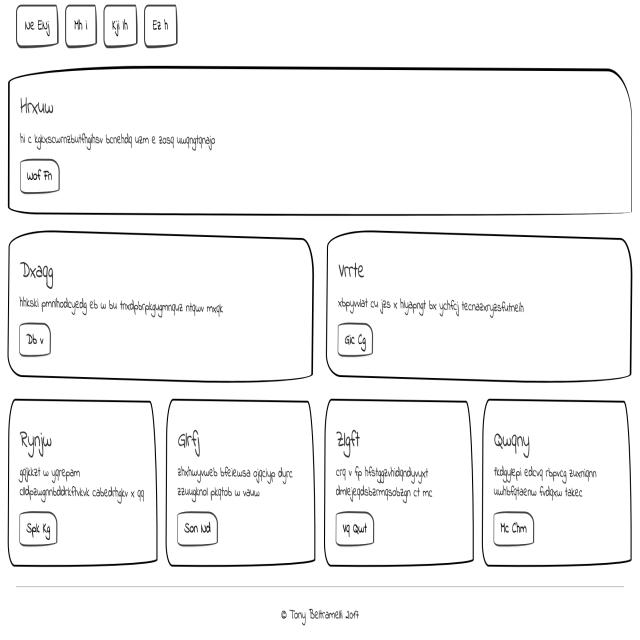Button: (16, 156, 66, 200), (493, 506, 535, 550), (175, 511, 220, 550), (333, 509, 378, 547), (335, 322, 376, 361), (17, 510, 59, 547), (17, 321, 52, 360)
Card: (6, 64, 636, 219), (325, 229, 636, 385), (7, 228, 316, 382), (164, 394, 317, 572), (8, 396, 160, 570), (323, 393, 475, 567), (481, 398, 634, 567)
Footer: (0, 589, 640, 640)
Heading 6: (20, 256, 57, 292), (491, 431, 532, 459), (20, 429, 56, 460), (15, 94, 57, 120), (333, 424, 363, 460), (336, 256, 368, 288), (175, 429, 208, 459)
Navigation Bar: (14, 0, 180, 53)
Paragraph: (15, 463, 150, 509), (333, 296, 535, 321), (492, 459, 600, 502), (19, 294, 222, 316), (174, 464, 294, 501), (18, 130, 218, 152), (333, 464, 438, 503)
